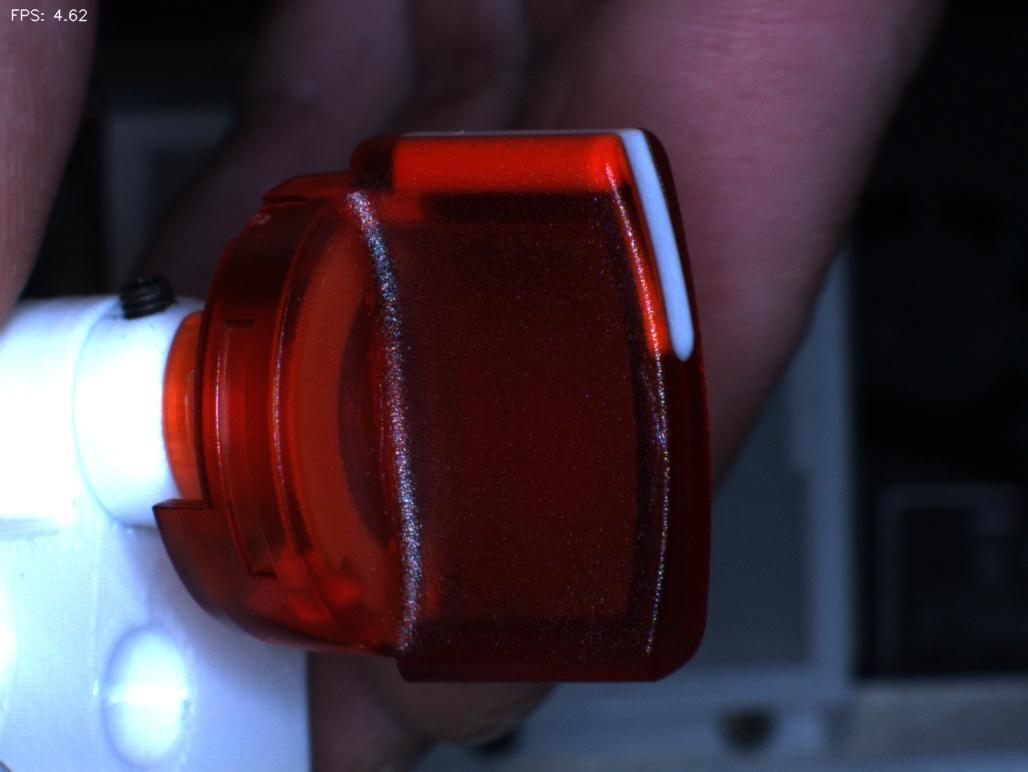Givrage: (603, 346, 688, 478)
